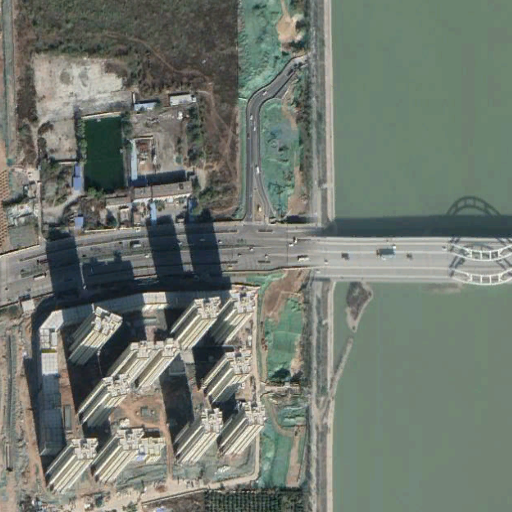cw: (235, 5, 308, 216), (248, 272, 307, 488)
